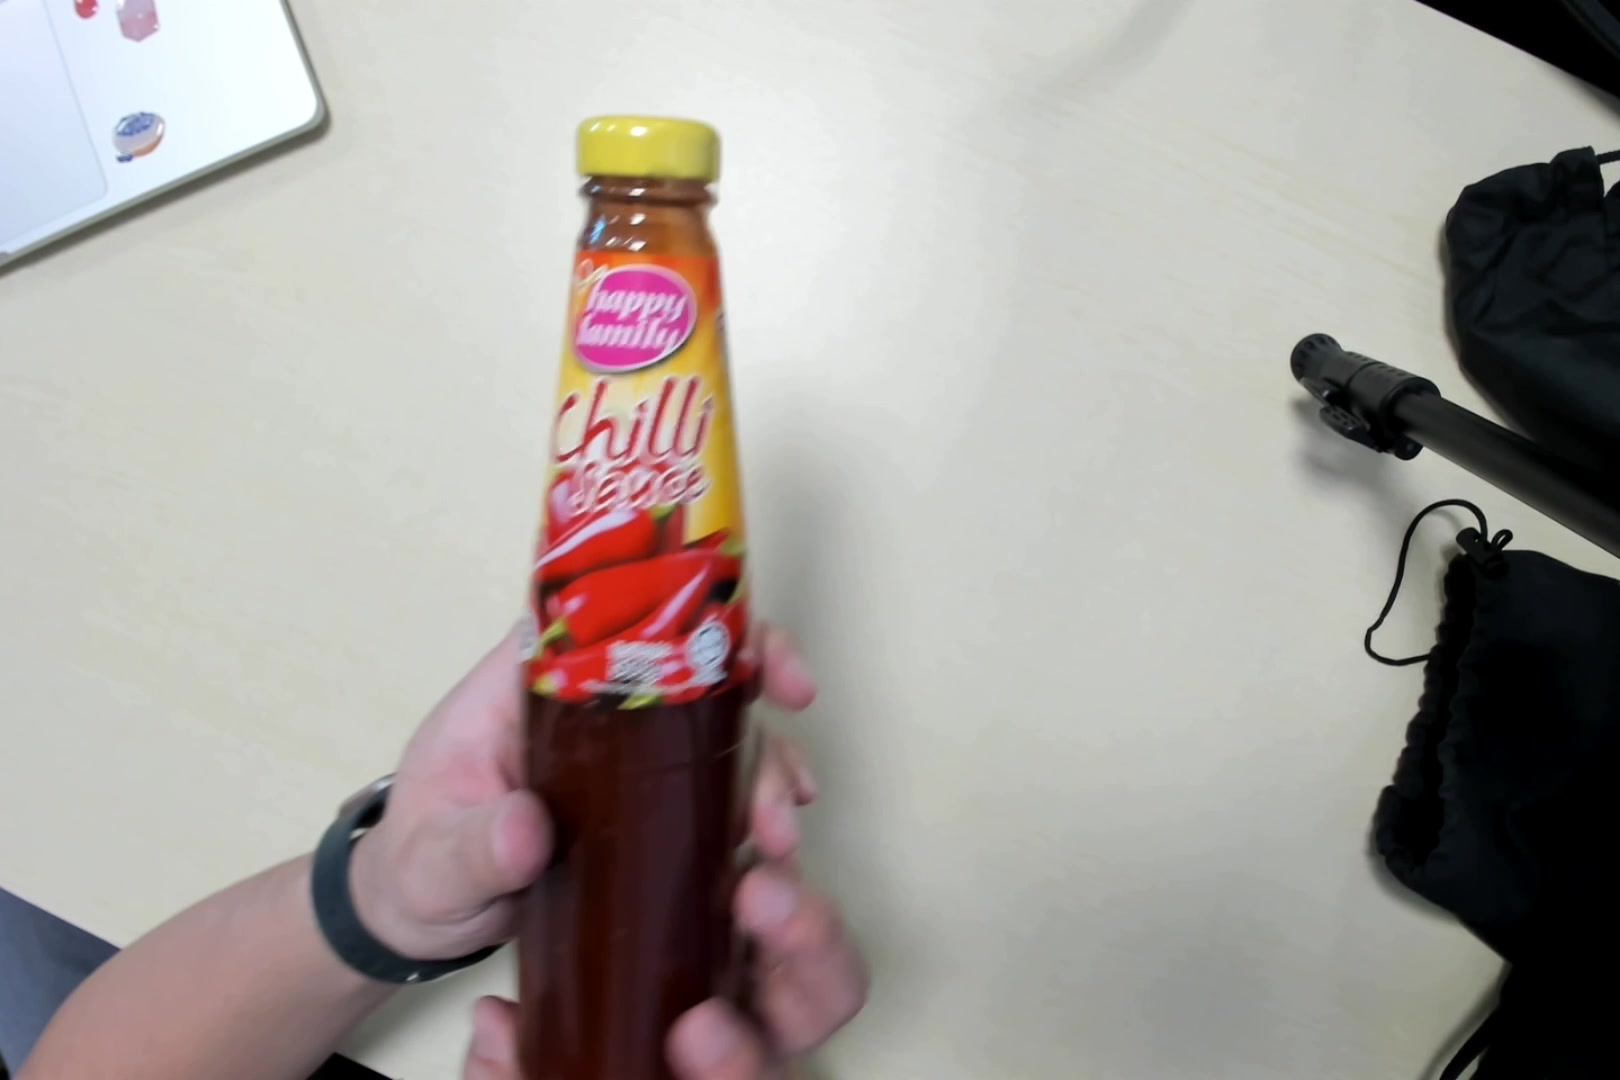KetchupChillSauce_500-599g_Halal_NonHealthy: (522, 95, 749, 1080)
